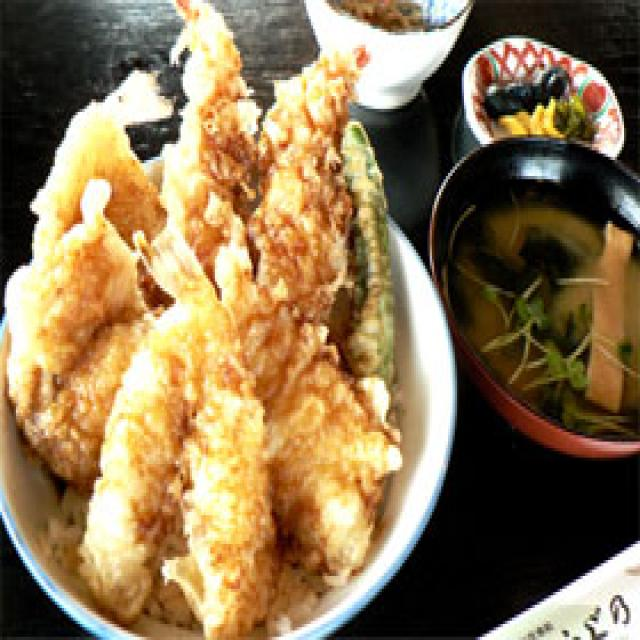汤锅炖物: (434, 125, 640, 445)
熟制海鲜: (0, 0, 459, 640)
